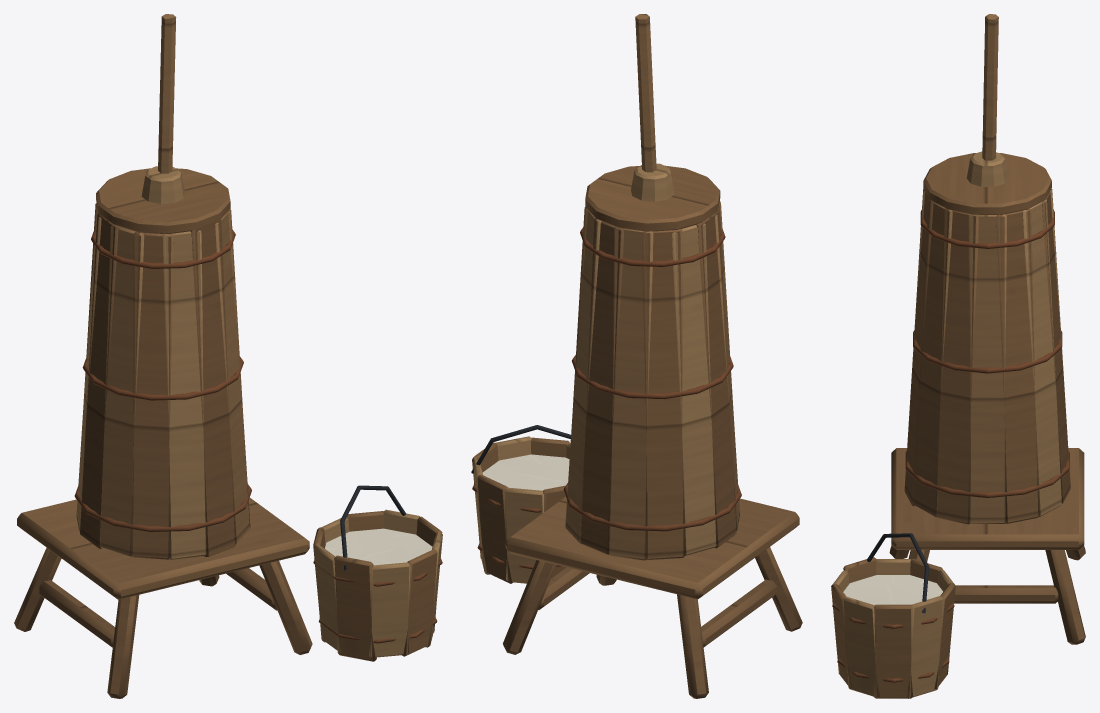
The model's file is butter_churn.glb.
3 renders of one model, left to right at view 1: azimuth 30°, elevation 25°; view 2: azimuth 150°, elevation 25°; view 3: azimuth 270°, elevation 25°, orthographic. The views are drawn at different scales.
Visible parts, largest first — view 1: butter_churn; view 2: butter_churn; view 3: butter_churn.
Part boxes in pixels (bbox=[...]): butter_churn: bbox=[14, 14, 442, 698]; butter_churn: bbox=[471, 14, 802, 698]; butter_churn: bbox=[831, 14, 1085, 698].
Bounding box in the file's own units: 0.823 × 1.52 × 0.5942.
Materials: 11 (11 with a texture image).
